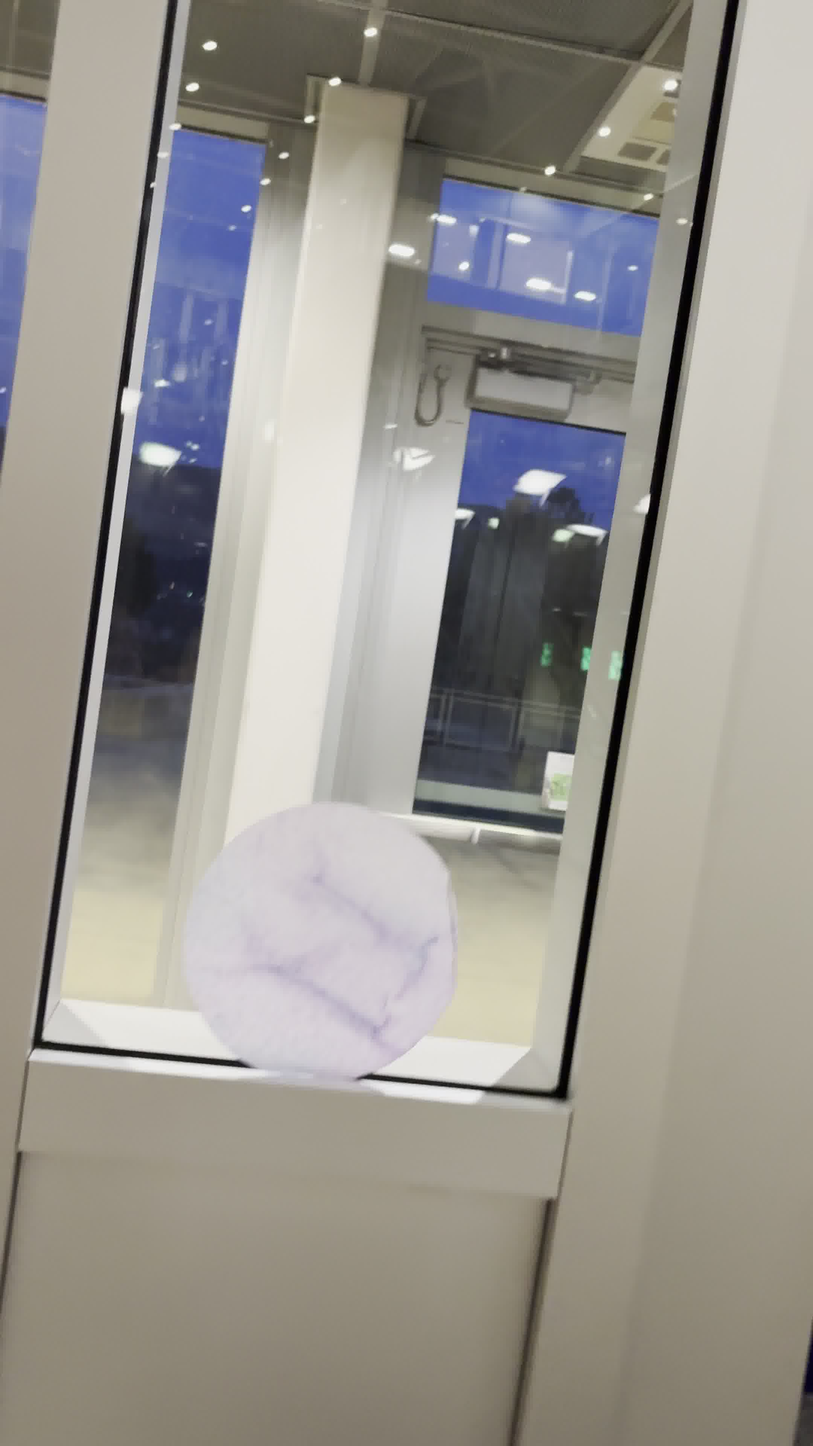Target: (175, 798, 465, 1086)
